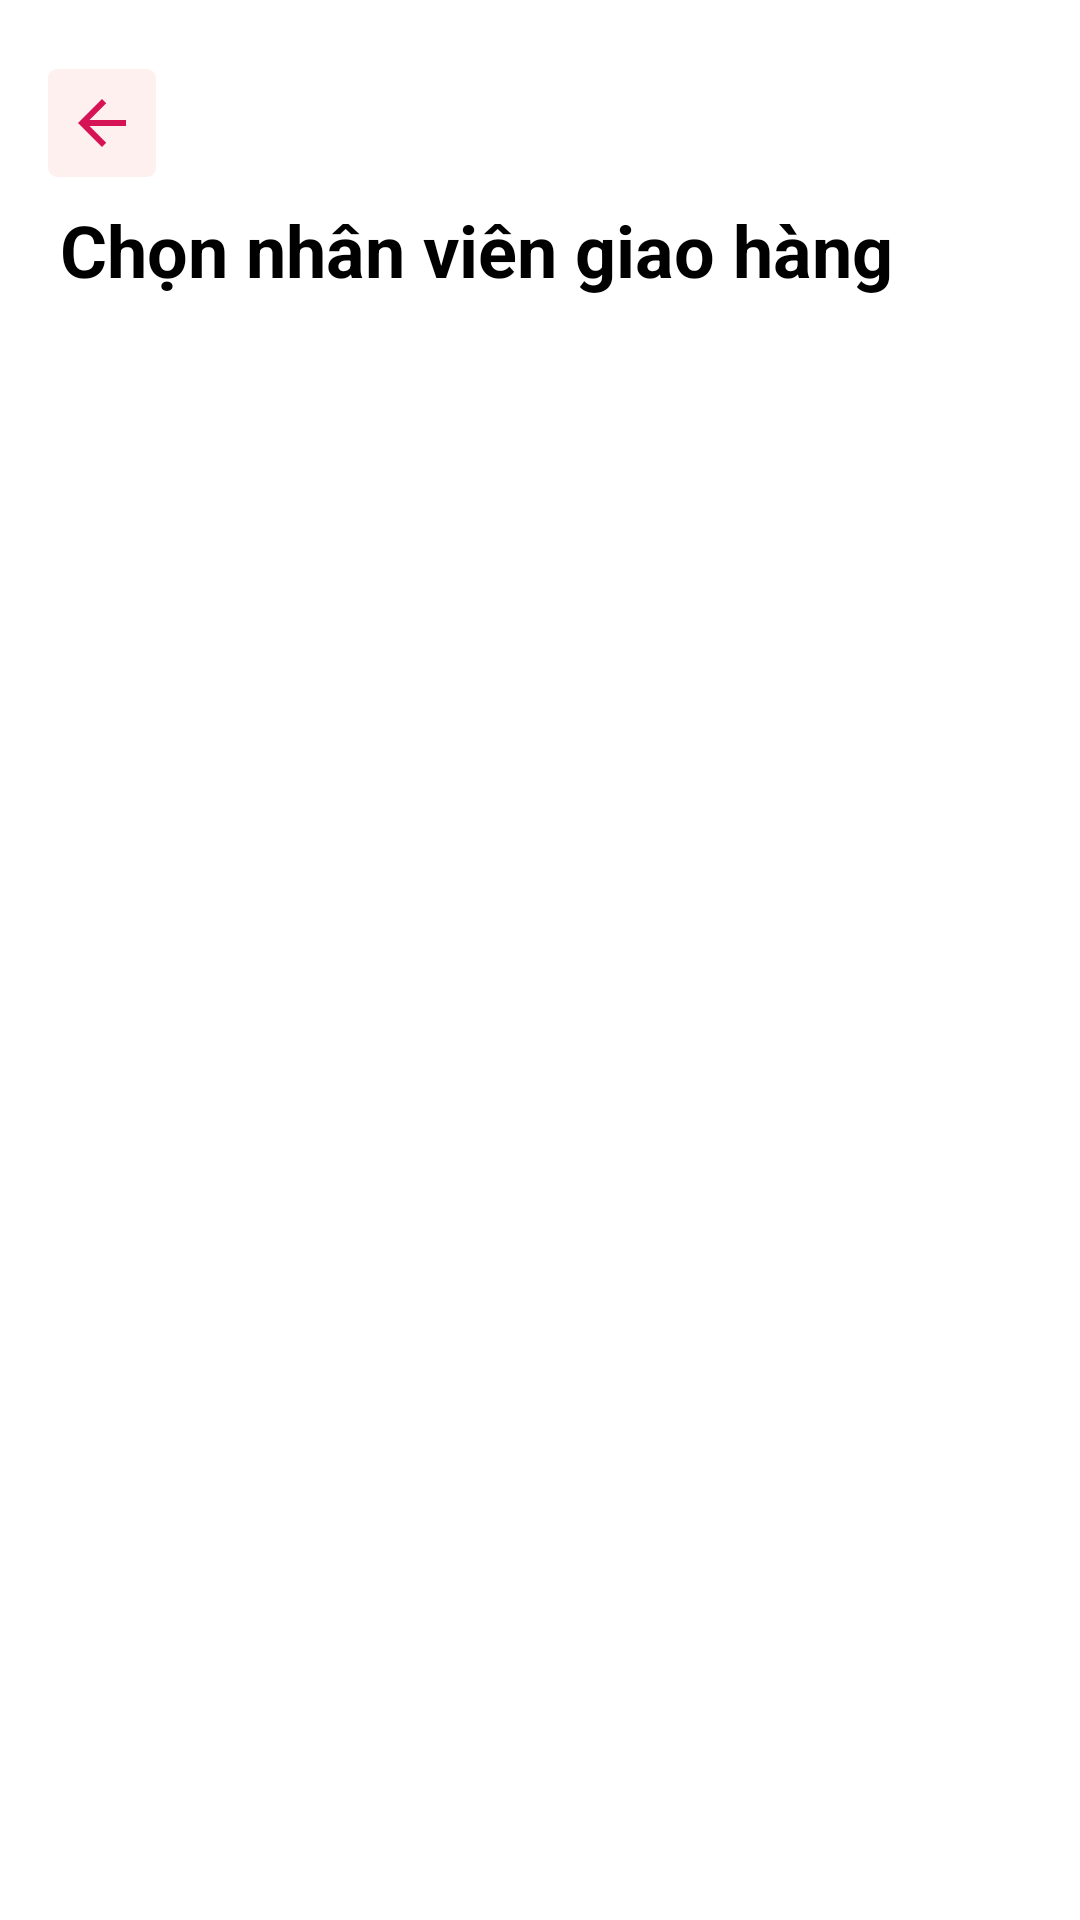

Icons on this 1080 x 1920 Android screen, each with its box as (x1, y1, x2, y2):
Back: (48, 69, 156, 177)
